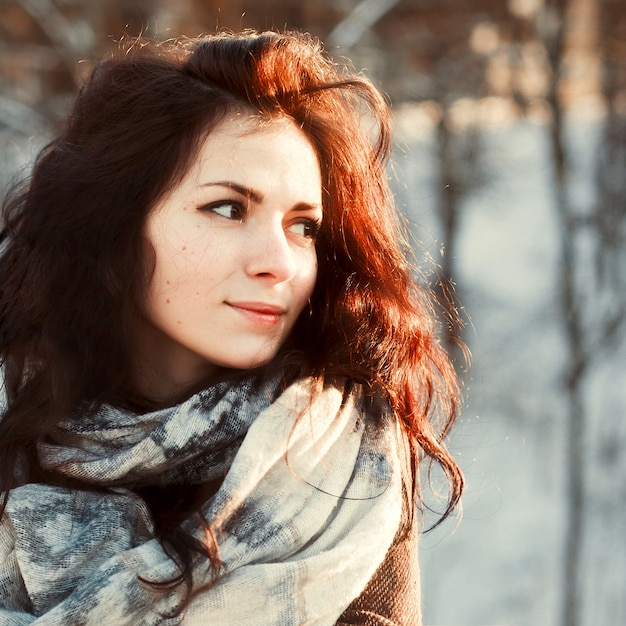teen: (75, 41, 334, 370)
